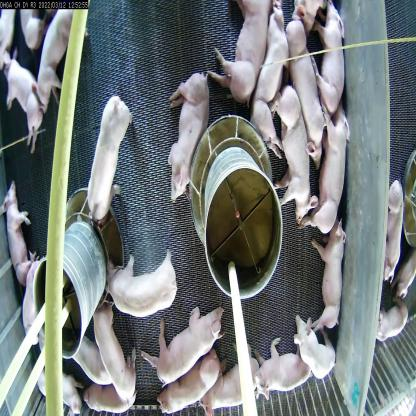Pig: (78, 76, 131, 235), (286, 19, 330, 162), (216, 0, 268, 113), (161, 304, 227, 385), (34, 4, 87, 104), (313, 104, 350, 246), (276, 87, 316, 216), (111, 254, 182, 326), (95, 297, 139, 399), (259, 6, 288, 158), (202, 343, 258, 416), (319, 0, 355, 111), (0, 48, 45, 136), (156, 357, 223, 415), (261, 342, 311, 415), (21, 258, 53, 361), (4, 180, 34, 281), (320, 219, 348, 321), (298, 313, 338, 382), (69, 336, 111, 391), (79, 379, 136, 416)
